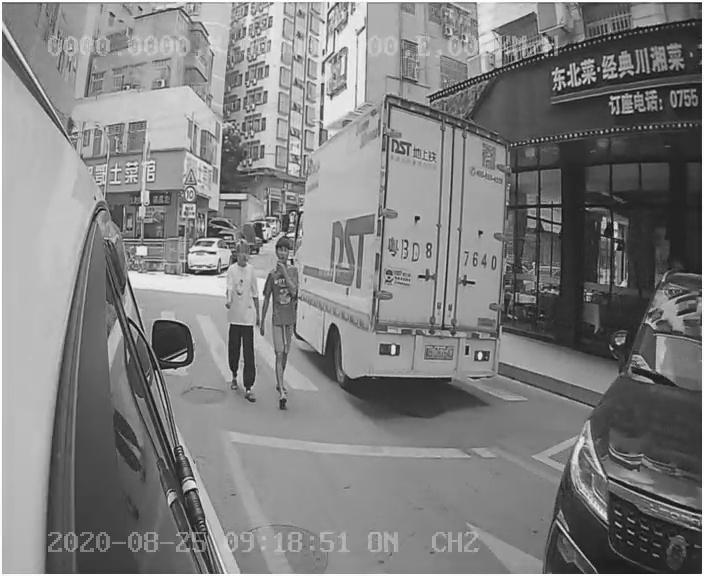person: (249, 238, 309, 415), (209, 239, 266, 400)
